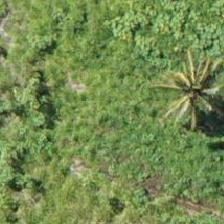coconut_tree: (143, 38, 223, 128)
